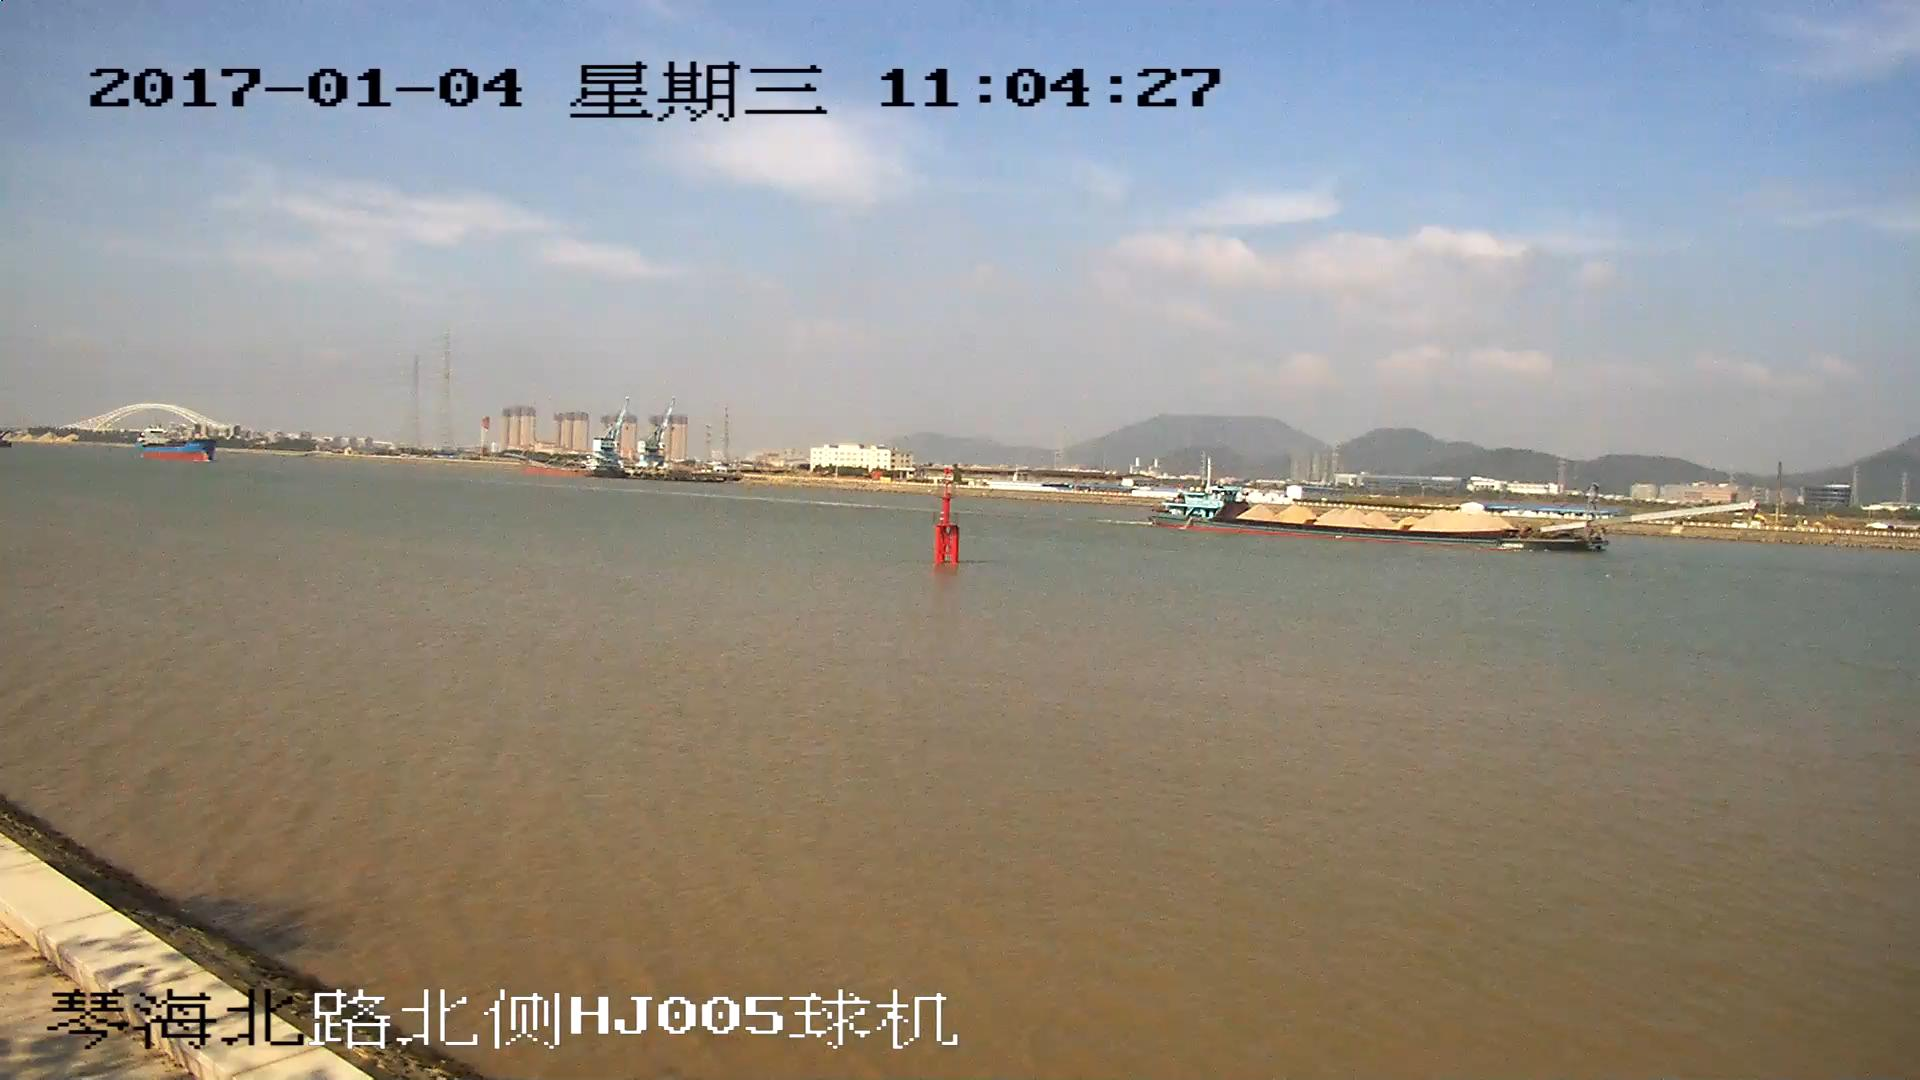ore carrier: (1149, 474, 1754, 557)
